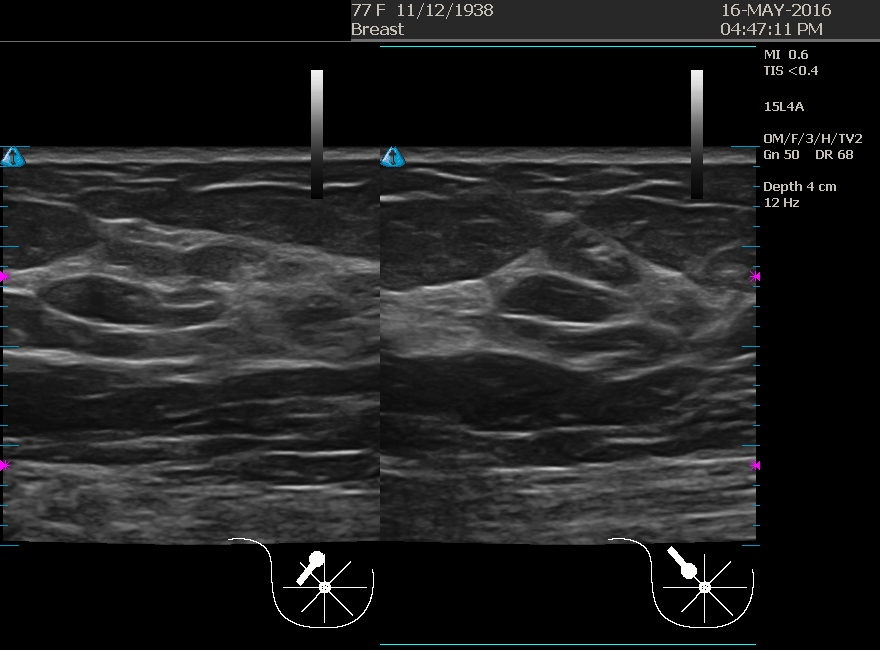BIRADS_2: (455, 210, 655, 410)
BIRADS_3: (32, 160, 232, 360)
